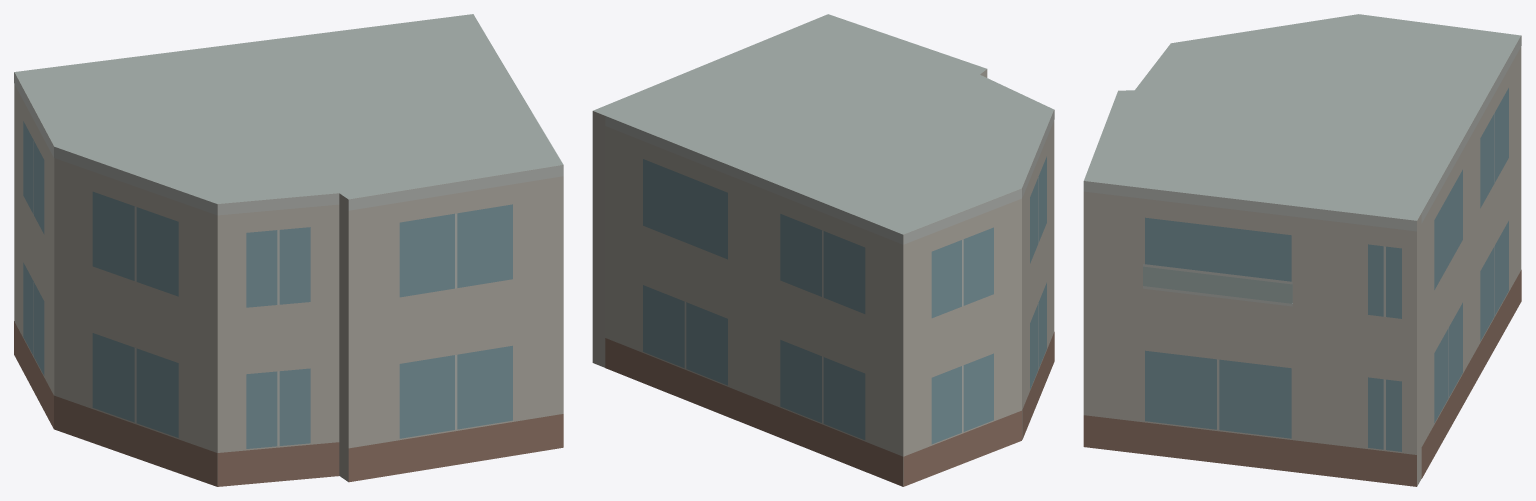
The model's file is survey-upis-32647998.glb.
3 views of the same model, side by side, from view 1: azimuth 30°, elevation 25°; view 2: azimuth 150°, elevation 25°; view 3: azimuth 270°, elevation 25° (orthographic). The views are drawn at different scales.
Visible parts, largest first — view 1: survey-upis-32647998.tmp; view 2: survey-upis-32647998.tmp; view 3: survey-upis-32647998.tmp.
Boxes of the visible parts, x1,y1,x2,y2 form: survey-upis-32647998.tmp: (14, 14, 563, 486); survey-upis-32647998.tmp: (592, 14, 1054, 486); survey-upis-32647998.tmp: (1083, 14, 1521, 486).
Size of the model in its own units: 10.18 by 6.1 by 9.1.
